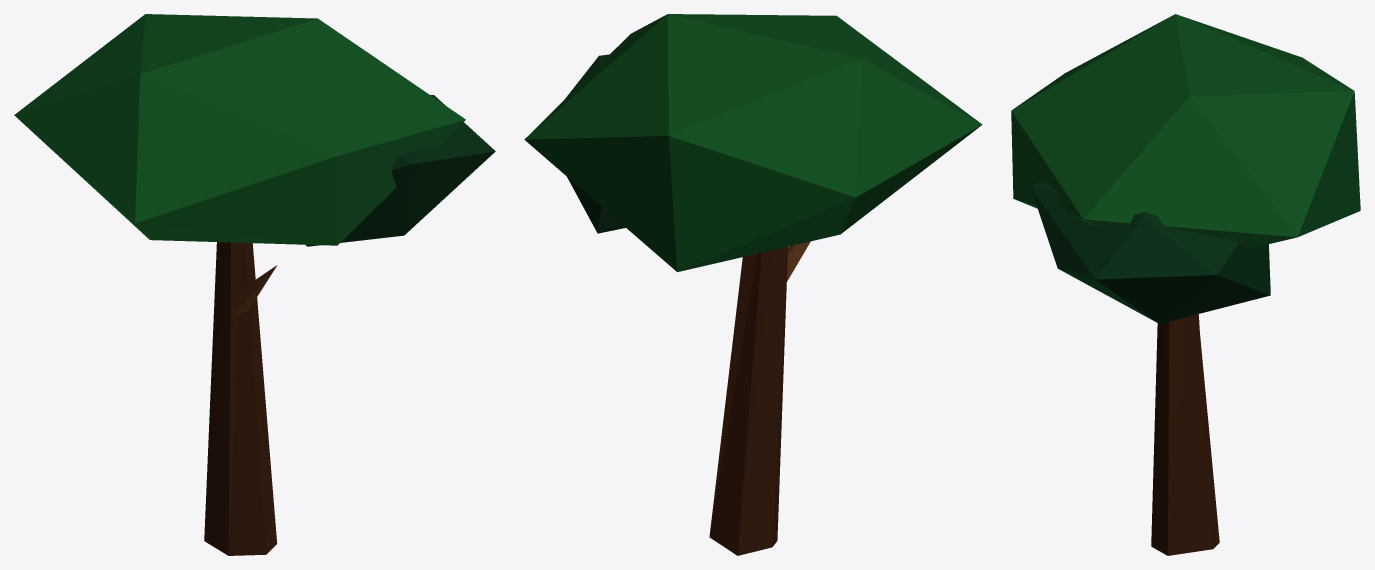
The model's file is world_tree_canopy_s.fbx.
3 renders of one model, left to right at view 1: azimuth 30°, elevation 25°; view 2: azimuth 150°, elevation 25°; view 3: azimuth 270°, elevation 25°, orthographic. The views are drawn at different scales.
Visible parts, largest first — view 1: world_tree_canopy_s; view 2: world_tree_canopy_s; view 3: world_tree_canopy_s.
Part boxes in pixels (box(x1,y1,x2,y2)): world_tree_canopy_s: box(14, 14, 495, 555); world_tree_canopy_s: box(524, 14, 982, 555); world_tree_canopy_s: box(1011, 14, 1360, 555).
Size of the model in its own units: 642 by 824 by 537.
